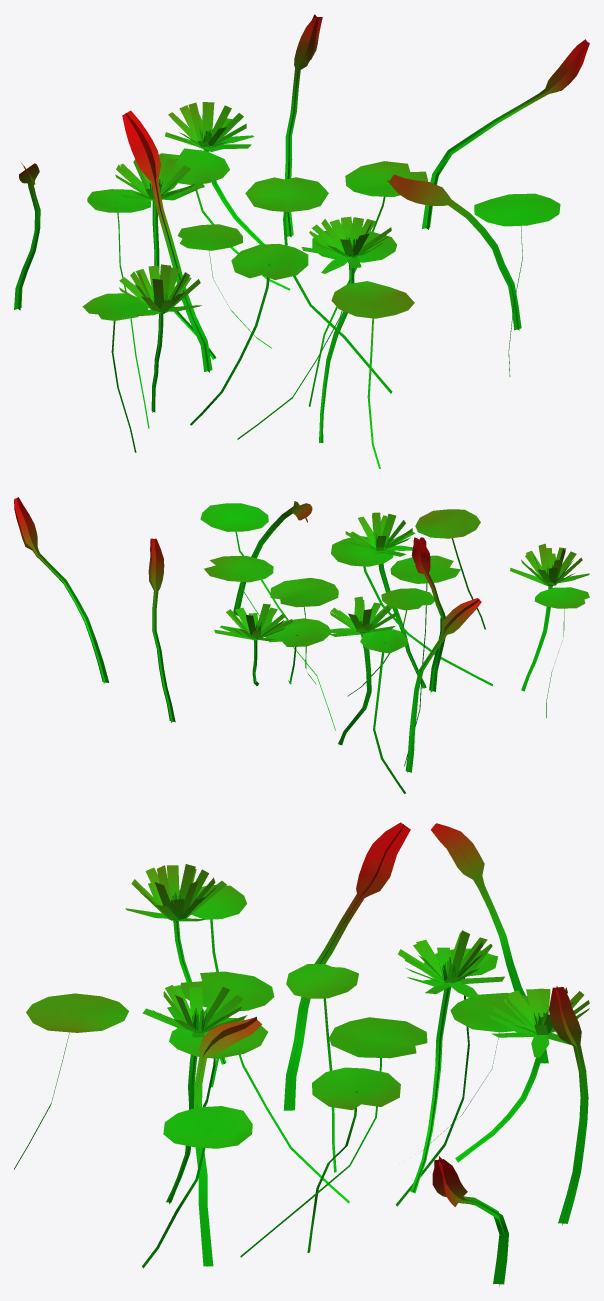
Rendered from Var5_LOD2.fbx.
The picture shows the model from 3 angles, top to bottom: view 1: azimuth 30°, elevation 25°; view 2: azimuth 150°, elevation 25°; view 3: azimuth 270°, elevation 25°; orthographic projection. The views are drawn at different scales.
Parts seen in each view (by area): view 1: _7f46_Var5_LOD2; view 2: _7f46_Var5_LOD2; view 3: _7f46_Var5_LOD2.
Boxes of the visible parts, x1=… form: _7f46_Var5_LOD2: x1=14, y1=14, x2=589, y2=468; _7f46_Var5_LOD2: x1=14, y1=497, x2=589, y2=793; _7f46_Var5_LOD2: x1=14, y1=822, x2=589, y2=1286.
Size of the model in its own units: 201 by 103 by 144.
